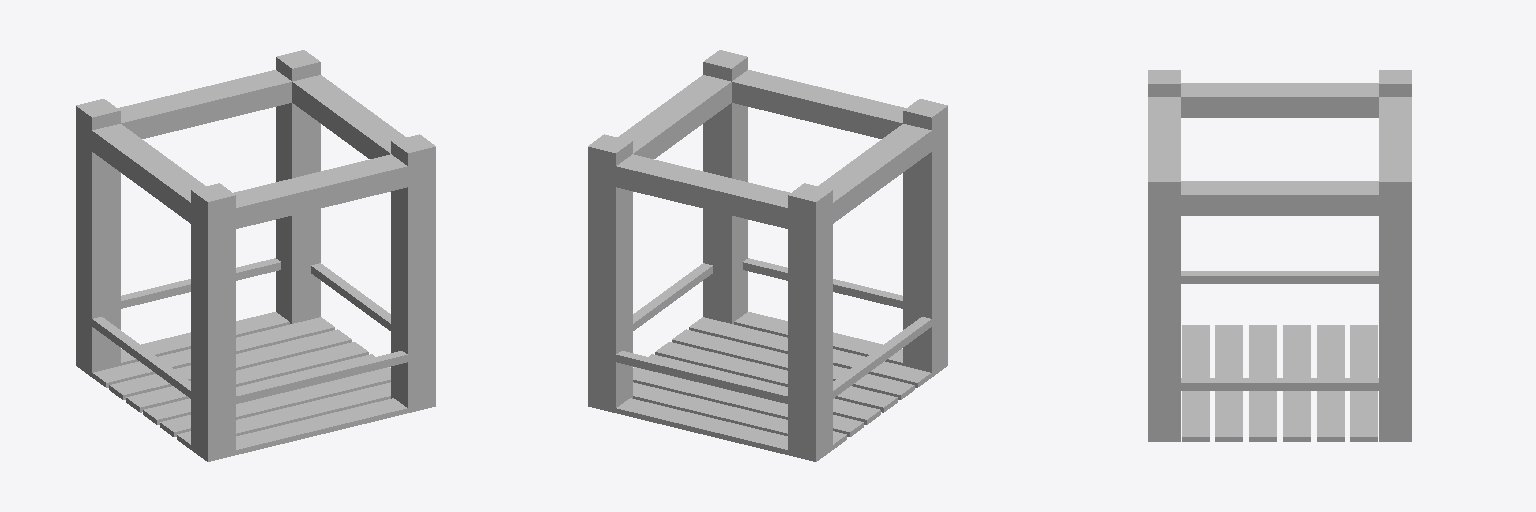
The model's file is towerSquareMidOpen.obj.
The picture shows the model from 3 angles: view 1: azimuth 30°, elevation 25°; view 2: azimuth 150°, elevation 25°; view 3: azimuth 270°, elevation 25°; orthographic projection.
Parts seen in each view (by area): view 1: towerSquareMidOpen, plank 15, plank 11, plank 14, plank 13, plank 12, plank 8, rail 5, rail 6, plank 9, rail 7, rail 8 (+1 smaller); view 2: towerSquareMidOpen, plank 9, plank 10, plank 12, plank 8, plank 14, plank 13, rail 7, rail 6, plank 15, rail 5, rail 8 (+1 smaller); view 3: towerSquareMidOpen, plank 8, plank 10, plank 11, plank 12, plank 13, plank 14, rail 6, rail 8.
Boxes of the visible parts, x1=… form: towerSquareMidOpen: x1=76, y1=50, x2=435, y2=461; plank 15: x1=236, y1=398, x2=407, y2=454; plank 11: x1=126, y1=342, x2=368, y2=412; plank 14: x1=160, y1=367, x2=390, y2=436; plank 13: x1=92, y1=317, x2=334, y2=387; plank 12: x1=109, y1=329, x2=351, y2=399; plank 8: x1=177, y1=382, x2=390, y2=449; rail 5: x1=236, y1=351, x2=407, y2=403; rail 6: x1=92, y1=317, x2=190, y2=398; plank 9: x1=121, y1=312, x2=289, y2=365; rail 7: x1=121, y1=258, x2=280, y2=308; rail 8: x1=311, y1=263, x2=390, y2=330; towerSquareMidOpen: x1=588, y1=50, x2=947, y2=461; plank 9: x1=616, y1=398, x2=787, y2=454; plank 10: x1=655, y1=342, x2=897, y2=412; plank 12: x1=633, y1=367, x2=863, y2=436; plank 8: x1=689, y1=317, x2=931, y2=387; plank 14: x1=672, y1=329, x2=914, y2=399; plank 13: x1=633, y1=382, x2=846, y2=449; rail 7: x1=616, y1=351, x2=787, y2=403; rail 6: x1=833, y1=317, x2=931, y2=398; plank 15: x1=734, y1=312, x2=902, y2=365; rail 5: x1=743, y1=258, x2=902, y2=308; rail 8: x1=633, y1=263, x2=712, y2=330; towerSquareMidOpen: x1=1148, y1=70, x2=1411, y2=441; plank 8: x1=1182, y1=325, x2=1209, y2=441; plank 10: x1=1249, y1=325, x2=1276, y2=441; plank 11: x1=1283, y1=325, x2=1310, y2=441; plank 12: x1=1317, y1=325, x2=1344, y2=441; plank 13: x1=1350, y1=325, x2=1377, y2=441; plank 14: x1=1215, y1=325, x2=1242, y2=441; rail 6: x1=1181, y1=271, x2=1378, y2=283; rail 8: x1=1181, y1=378, x2=1378, y2=390.
Bounding box in the file's own units: 9.3 × 10.1 × 9.3.